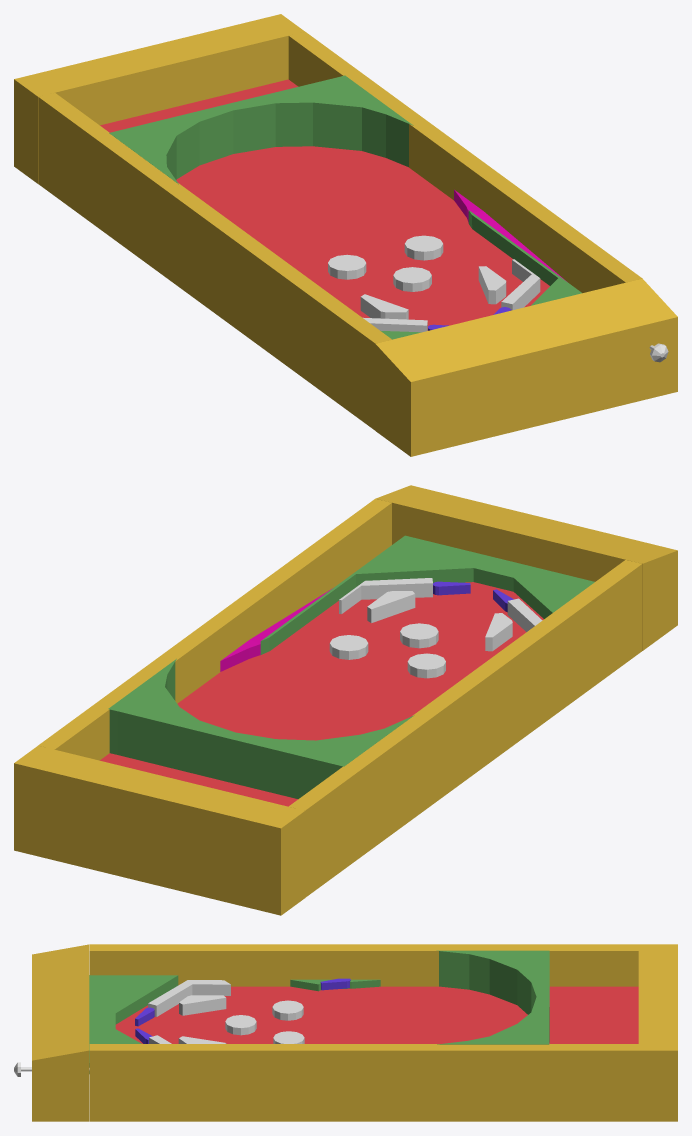
Rendered from table2.gltf.
The picture shows the model from 3 angles, top to bottom: view 1: azimuth 30°, elevation 25°; view 2: azimuth 150°, elevation 25°; view 3: azimuth 270°, elevation 25°; orthographic projection. The views are drawn at different scales.
Visible parts, largest first — view 1: near wall, left wall, floor, back wall, back curve, right wall, base funnel, rightpassage, shoot ramp, bumper.3, left shoot, bumper.1 (+3 smaller); view 2: left wall, back wall, floor, right wall, near wall, back curve, base funnel, rightpassage, right shoot, shoot ramp, bumper.3, bumper.1 (+3 smaller); view 3: right wall, floor, left wall, near wall, back wall, back curve, base funnel, lefft passage, left shoot, redirector, bumper.2, bumper.1 (+2 smaller).
Part boxes in pixels (x1,y1,x2,y2): near wall: (375, 278, 677, 456); left wall: (38, 93, 391, 430); floor: (100, 79, 549, 330); back wall: (14, 14, 304, 183); back curve: (109, 75, 413, 184); right wall: (288, 31, 642, 292); base funnel: (380, 210, 582, 339); rightpassage: (501, 259, 540, 310); shoot ramp: (454, 189, 566, 281); bumper.3: (404, 235, 443, 260); left shoot: (360, 294, 408, 319); bumper.1: (393, 267, 431, 291); left wall: (289, 560, 642, 897); back wall: (14, 745, 305, 915); floor: (100, 582, 543, 806); right wall: (38, 498, 391, 760); near wall: (376, 485, 677, 650); back curve: (108, 659, 414, 799); base funnel: (260, 535, 594, 654); rightpassage: (339, 578, 432, 614); right shoot: (367, 591, 415, 622); shoot ramp: (220, 588, 332, 671); bumper.3: (329, 635, 368, 659); bumper.1: (400, 623, 438, 648); right wall: (89, 1044, 638, 1121); floor: (115, 986, 638, 1043); left wall: (89, 944, 638, 986); near wall: (32, 944, 89, 1121); back wall: (638, 944, 677, 1121); back curve: (437, 950, 549, 1044); base funnel: (89, 975, 178, 1073); lefft passage: (148, 980, 230, 1016); left shoot: (179, 995, 226, 1015); redirector: (290, 979, 380, 991); bumper.2: (272, 1000, 303, 1020); bumper.1: (225, 1015, 256, 1035).
Size of the model in its own units: 0.6406 by 0.2001 by 1.69.
